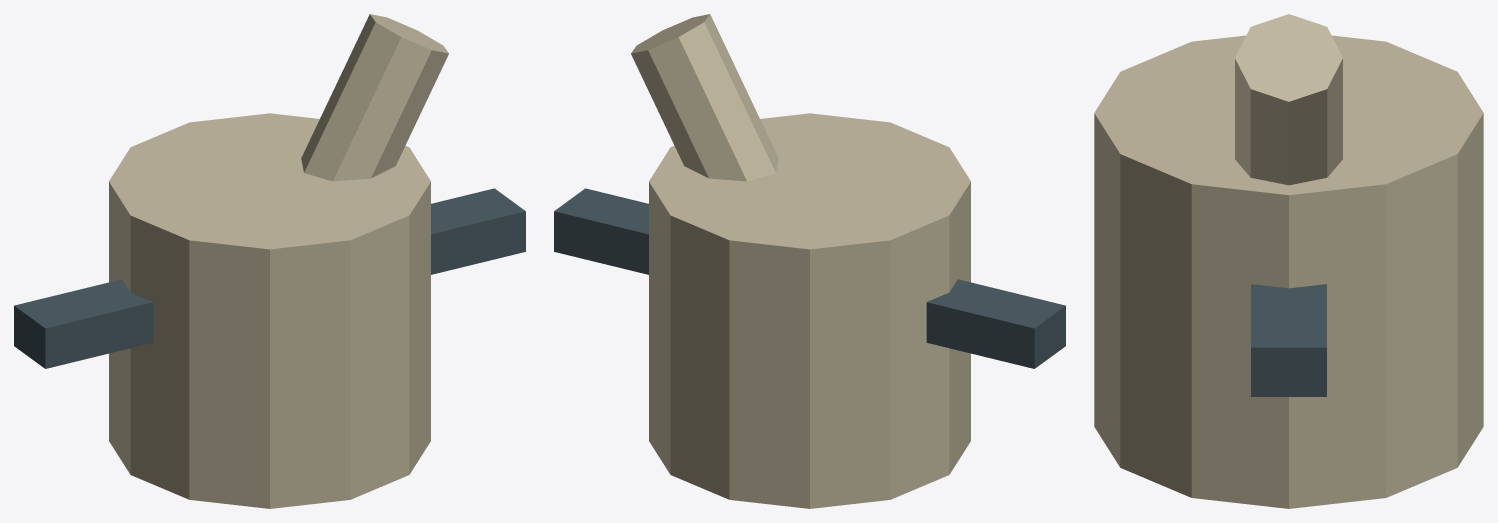
Rendered from set_mortar_pestle.glb.
3 renders of one model, left to right at view 1: azimuth 30°, elevation 25°; view 2: azimuth 150°, elevation 25°; view 3: azimuth 270°, elevation 25°, orthographic. The views are drawn at different scales.
Visible parts, largest first — view 1: set_mortar_pestle; view 2: set_mortar_pestle; view 3: set_mortar_pestle.
Part boxes in pixels (x1,y1,x2,y2): set_mortar_pestle: (14,14,525,508); set_mortar_pestle: (554,14,1065,508); set_mortar_pestle: (1094,14,1483,508).
Bounding box in the file's own units: 0.31 × 0.2423 × 0.18.
